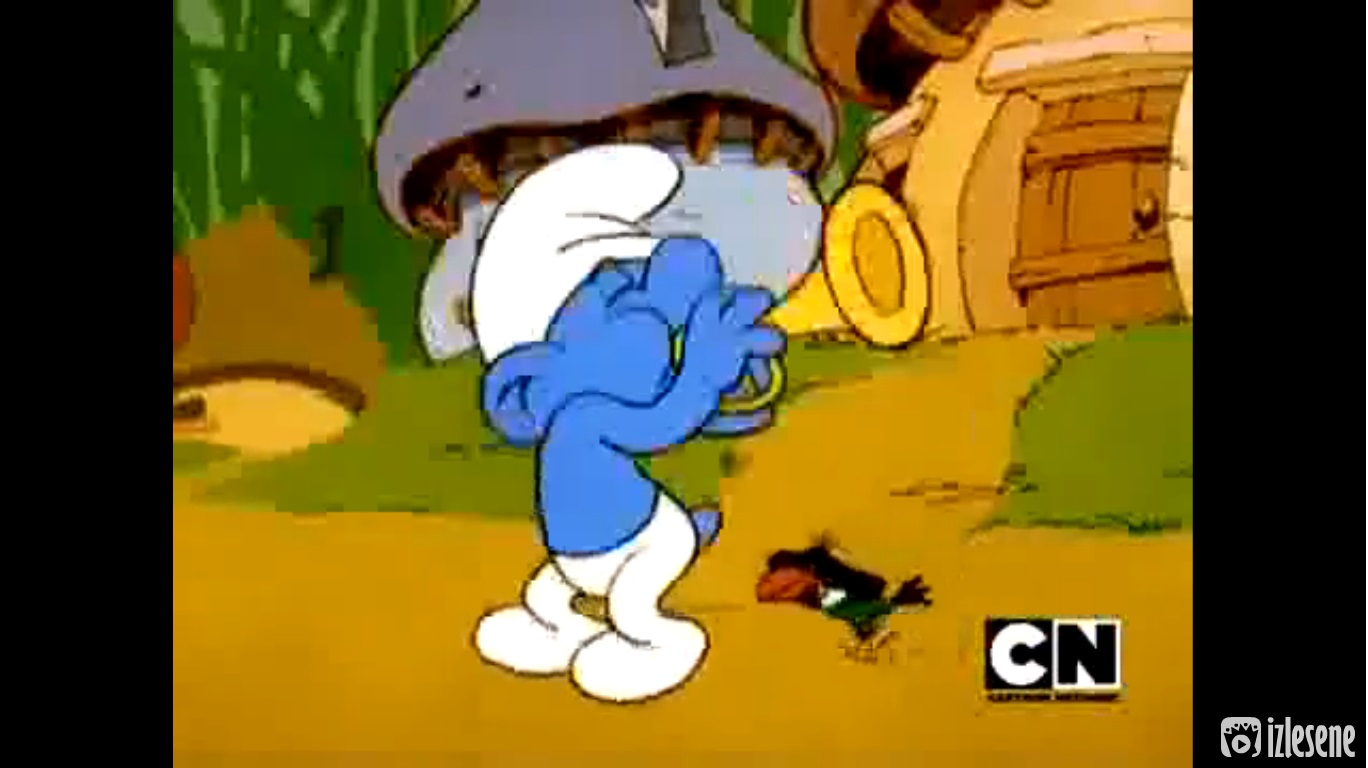smurf: (463, 133, 789, 709)
